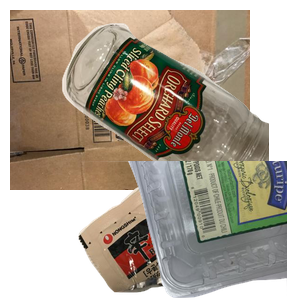cardboard: (10, 10, 250, 190)
glass: (60, 21, 300, 201)
plastic: (60, 161, 300, 300)
trash: (76, 170, 300, 300)
